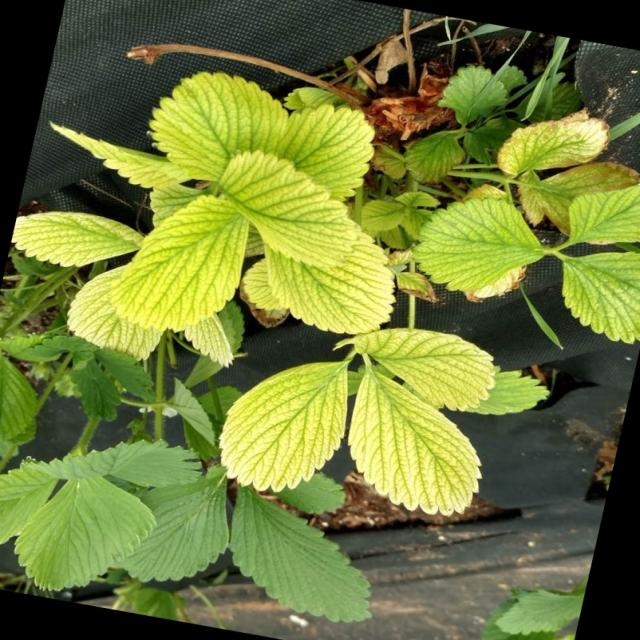Chlorosis: (5, 51, 540, 498)
